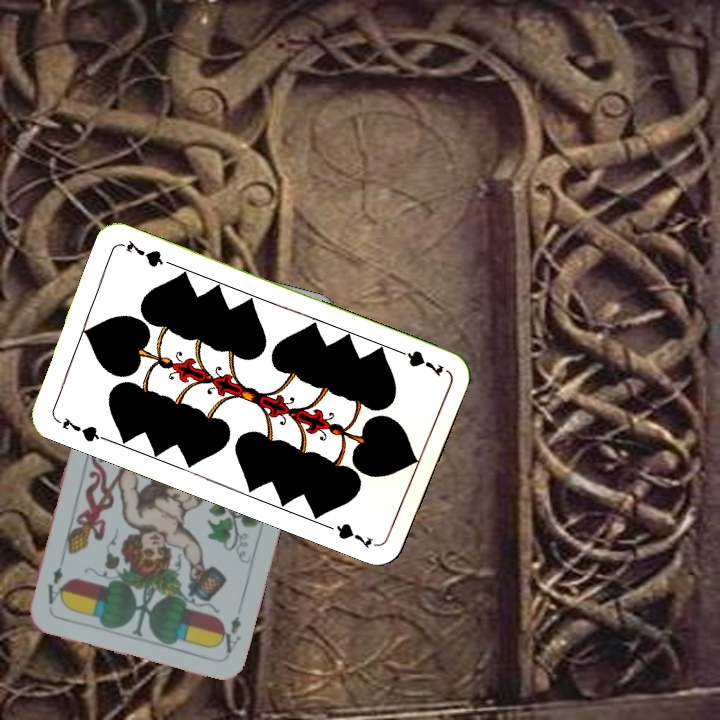EA: (213, 612, 244, 656)
G7: (390, 344, 446, 379), (52, 413, 108, 445)
